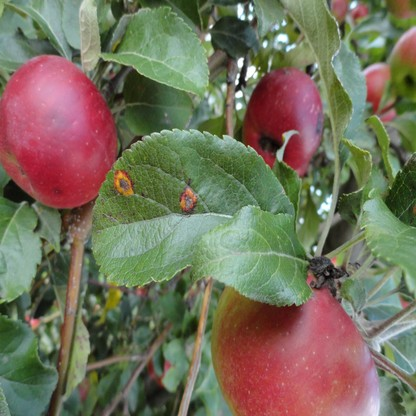rust: (113, 170, 134, 195), (180, 188, 196, 213)
